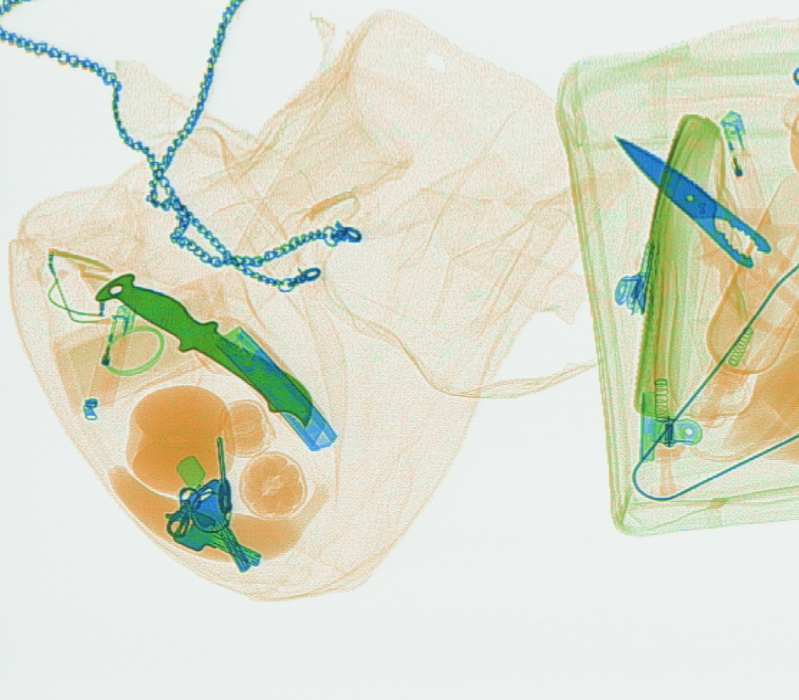knife: (96, 273, 314, 425), (213, 315, 339, 451)
lighter: (78, 300, 142, 402)
scissors: (613, 131, 797, 337)
